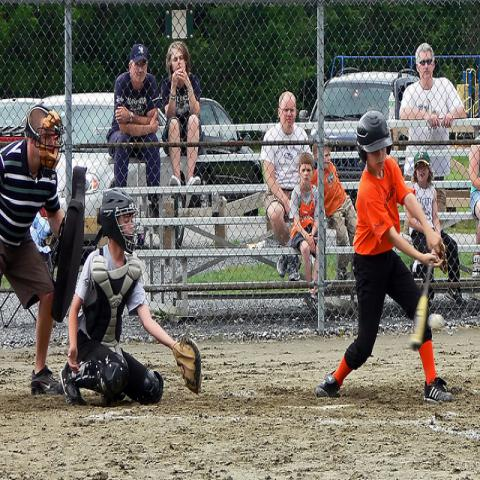car: (35, 92, 172, 212), (299, 68, 420, 139), (197, 97, 263, 184), (0, 98, 42, 130)
